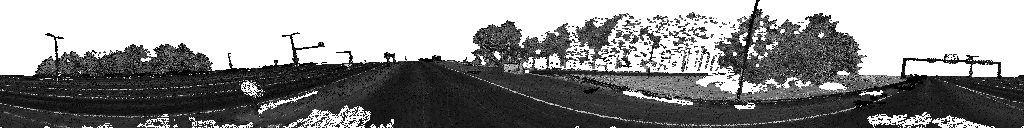gantry_sign_pole: (900, 53, 1002, 81), (282, 33, 325, 69), (336, 52, 352, 64)
light_pole: (735, 0, 759, 103), (45, 34, 63, 84), (223, 54, 232, 75), (966, 56, 978, 60), (969, 65, 972, 78)
traffic_pole: (237, 80, 265, 118), (384, 54, 395, 69)
